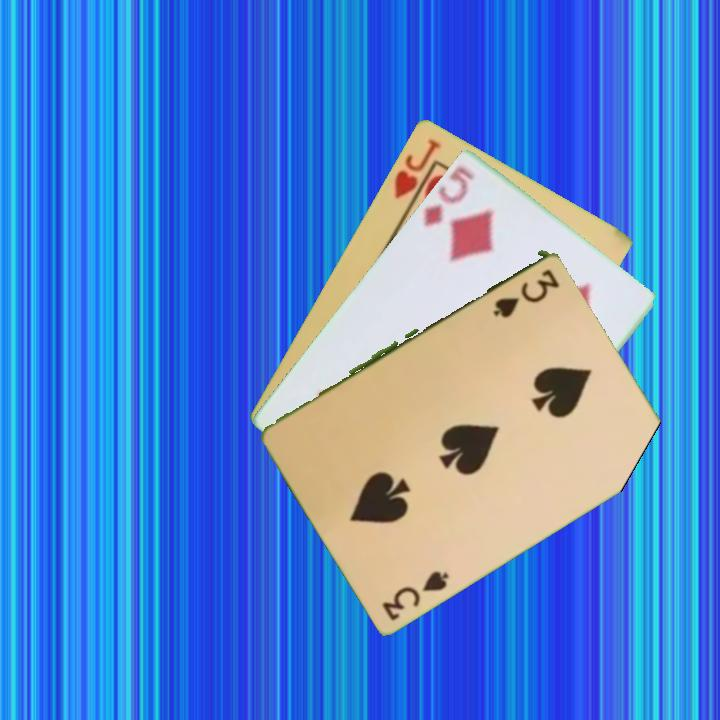3s: (378, 566, 452, 624), (489, 264, 560, 319)
5d: (420, 162, 477, 229)
Jh: (390, 134, 444, 201)
